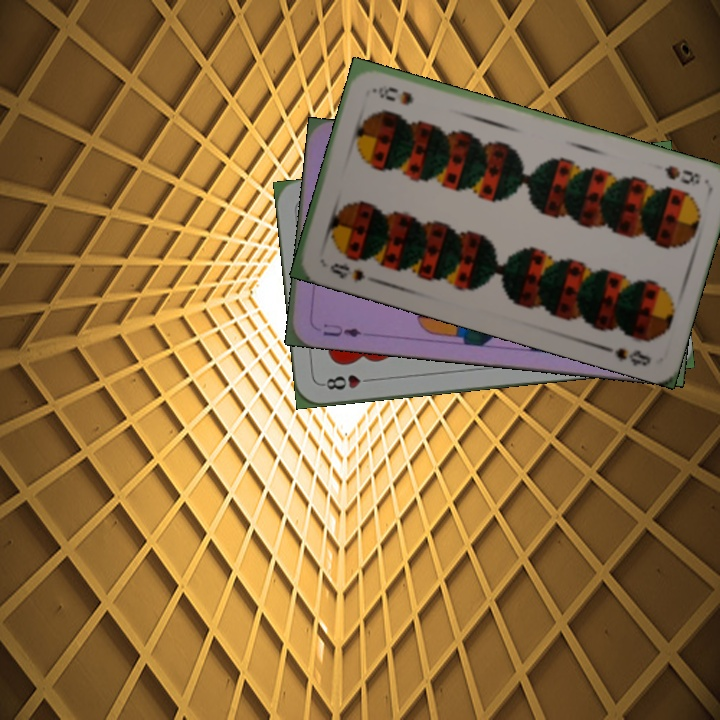EU: (319, 319, 370, 340)
H8: (319, 370, 378, 392)
S8: (660, 161, 704, 189), (326, 259, 368, 286)
